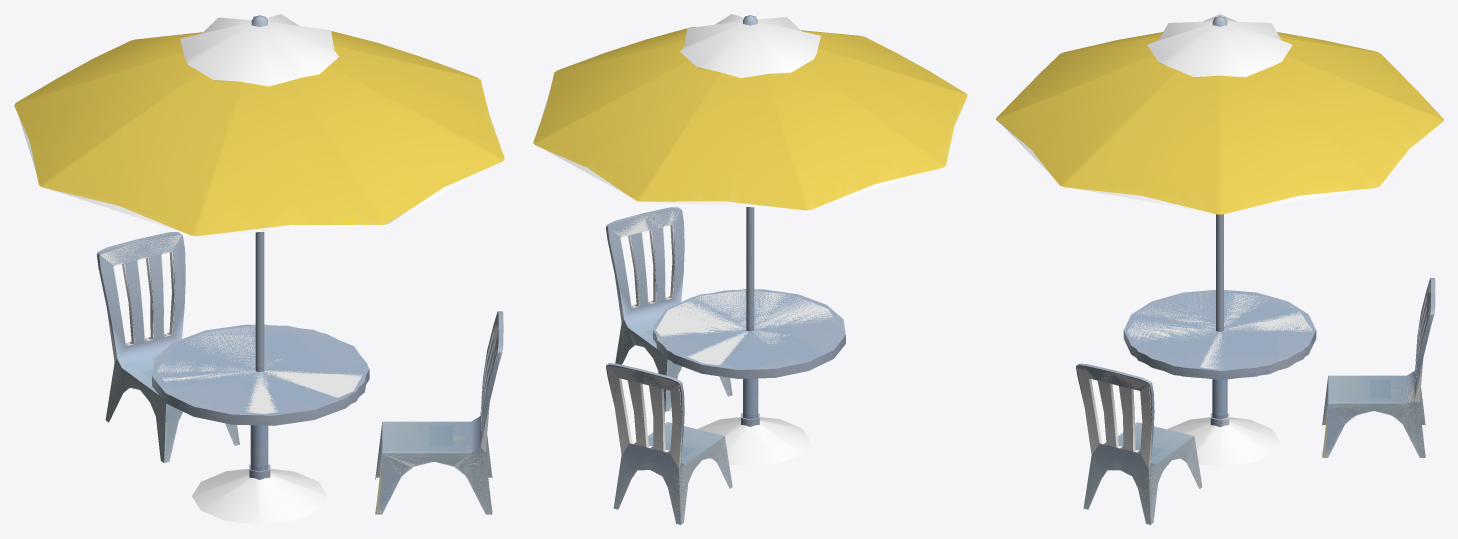
File: objects_un_t02table01.gltf
The picture shows the model from 3 angles, left to right: view 1: azimuth 30°, elevation 25°; view 2: azimuth 150°, elevation 25°; view 3: azimuth 270°, elevation 25°; orthographic projection. The views are drawn at different scales.
Visible parts, largest first — view 1: um_objects_un_t02table01_model_lod0Shape:objects_un_t02table (×3), um_objects_un_t02table01_model_lod1Shape:objects_un_t02table (×2); view 2: um_objects_un_t02table01_model_lod0Shape:objects_un_t02table (×3), um_objects_un_t02table01_model_lod1Shape:objects_un_t02table (×2); view 3: um_objects_un_t02table01_model_lod0Shape:objects_un_t02table (×3), um_objects_un_t02table01_model_lod1Shape:objects_un_t02table (×2).
Boxes of the visible parts, x1,y1,x2,y2 form: um_objects_un_t02table01_model_lod0Shape:objects_un_t02table (×3): (14,14,504,524); um_objects_un_t02table01_model_lod1Shape:objects_un_t02table (×2): (16,34,501,418); um_objects_un_t02table01_model_lod0Shape:objects_un_t02table (×3): (533,14,967,524); um_objects_un_t02table01_model_lod1Shape:objects_un_t02table (×2): (537,76,965,508); um_objects_un_t02table01_model_lod0Shape:objects_un_t02table (×3): (996,14,1443,524); um_objects_un_t02table01_model_lod1Shape:objects_un_t02table (×2): (1000,123,1440,461).
Size of the model in its own units: 2.73 by 2.86 by 2.73.
Materials: 3 (2 with a texture image).
